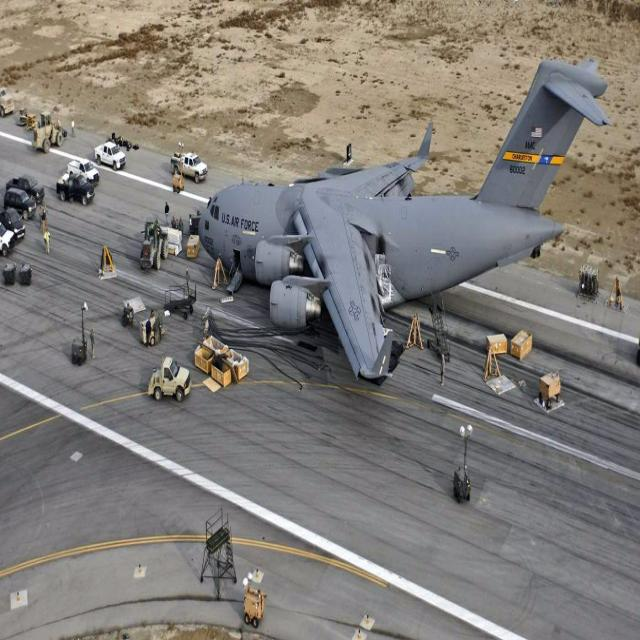MIL_Plane: (200, 58, 611, 380)
